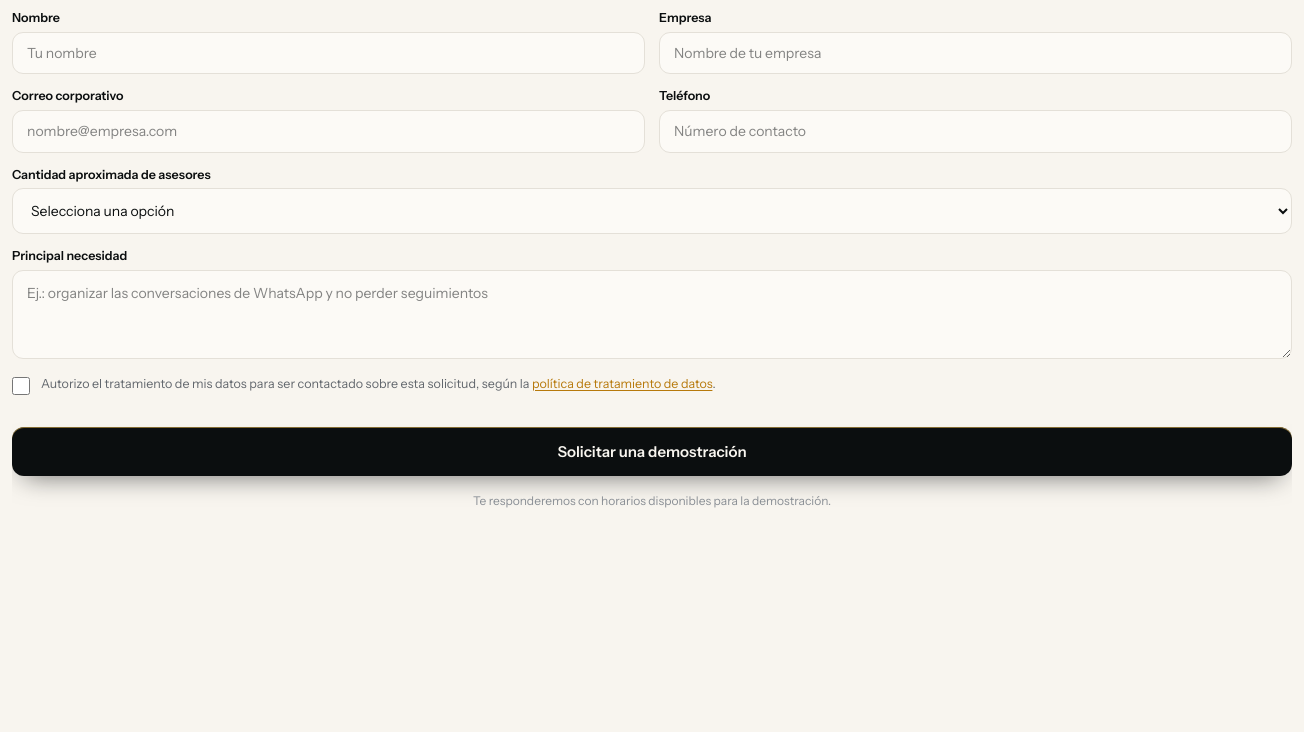
Test: DemoForm › envía la solicitud y muestra la confirmación
The width and height of the screenshot is (1304, 732).
Step 1. Type "María Gómez" into the field labelled "Nombre" → (328, 53), box [12,32,645,74]
Step 2. Type "Distribuciones del Valle" into the field labelled "Empresa" → (976, 53), box [659,32,1292,74]
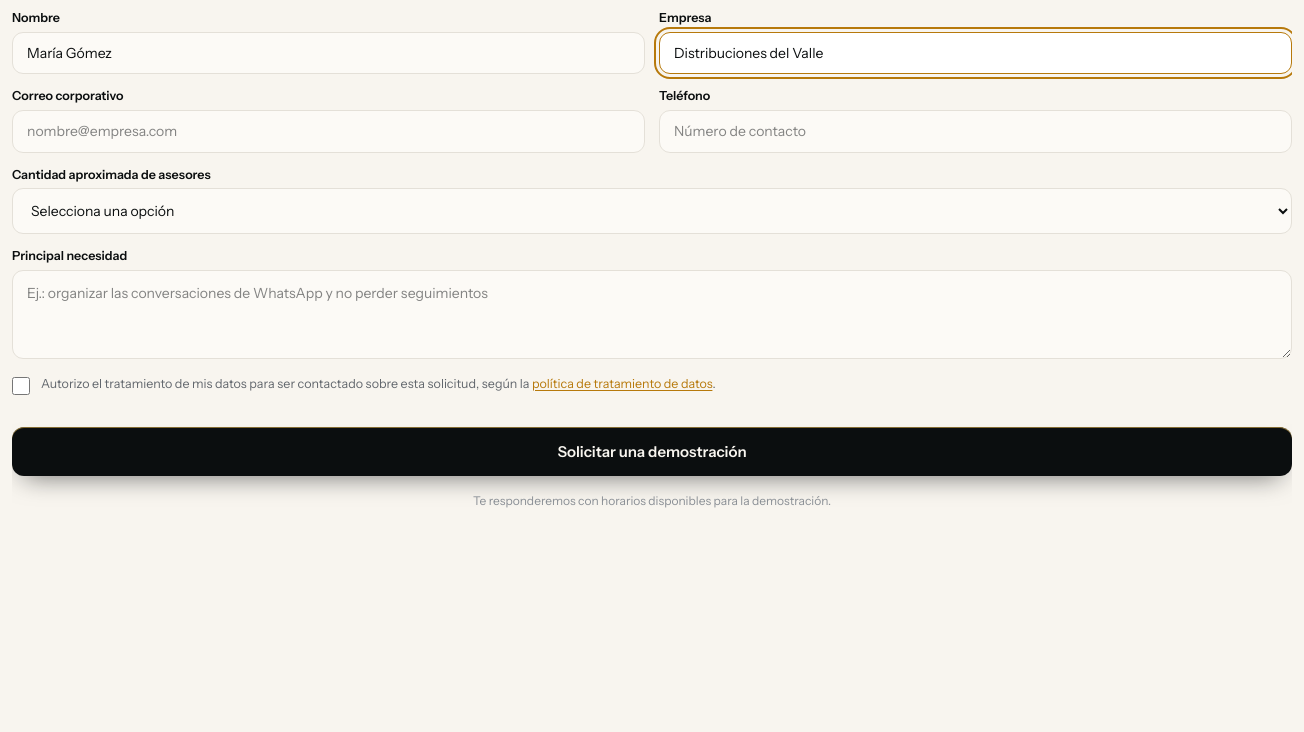
Step 3. Type "maria@empresa.com" into the field labelled "Correo corporativo" → (328, 131), box [12,110,645,153]
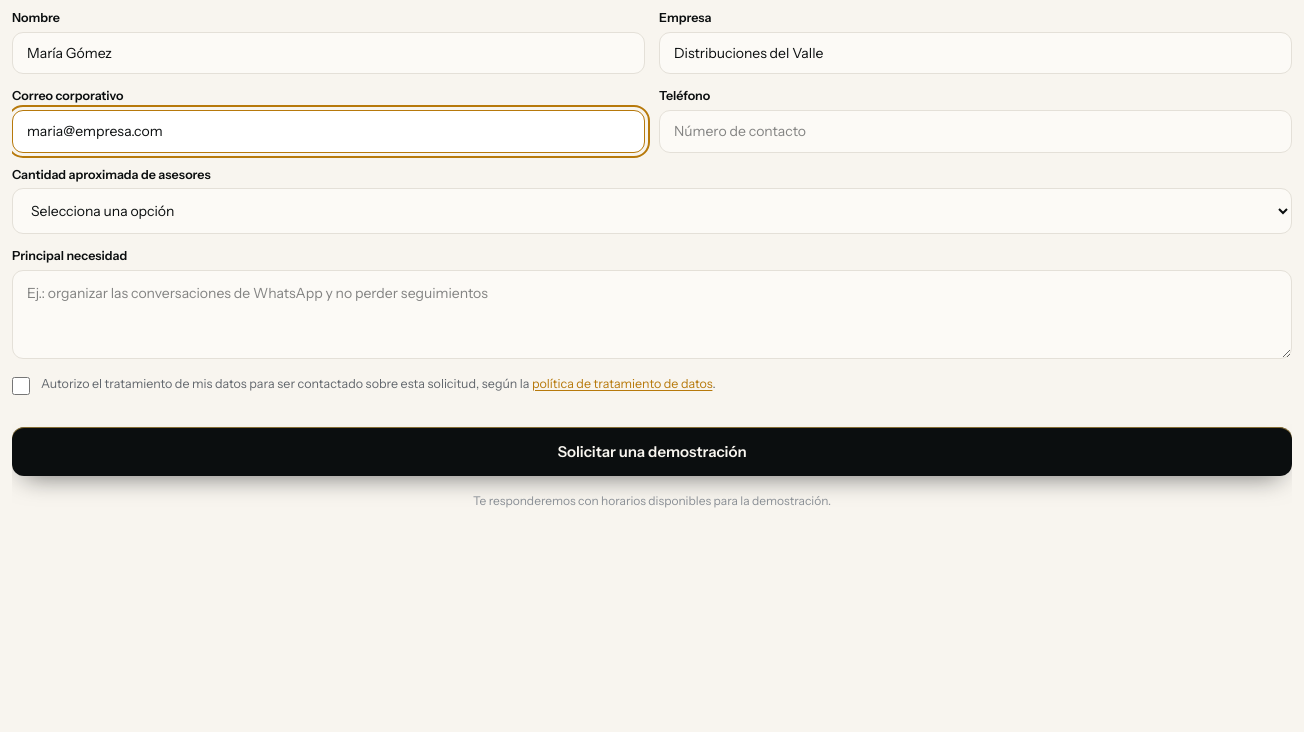
Step 4. Type "3001234567" into the field labelled "Teléfono" → (976, 131), box [659,110,1292,153]
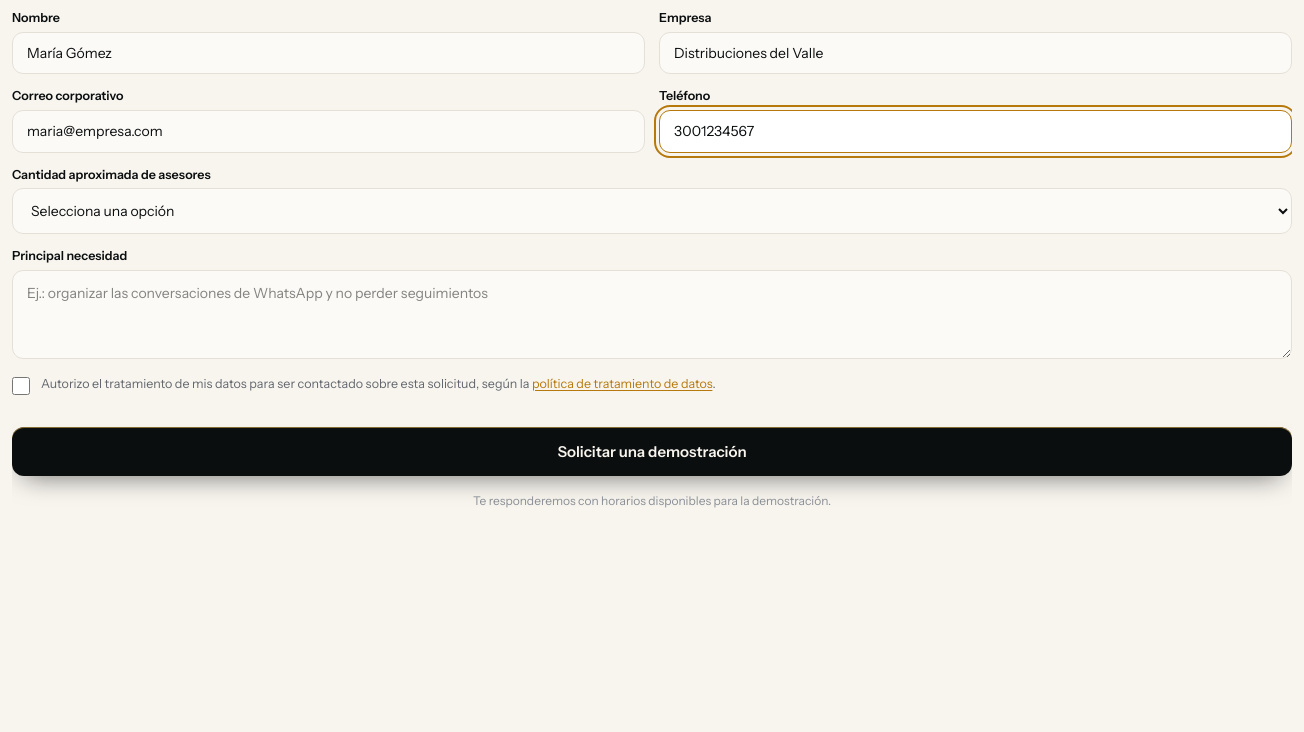
Step 5. Select "4 a 10" in the dropdown labelled "Cantidad aproximada de asesores" → (652, 211), box [12,188,1292,234]
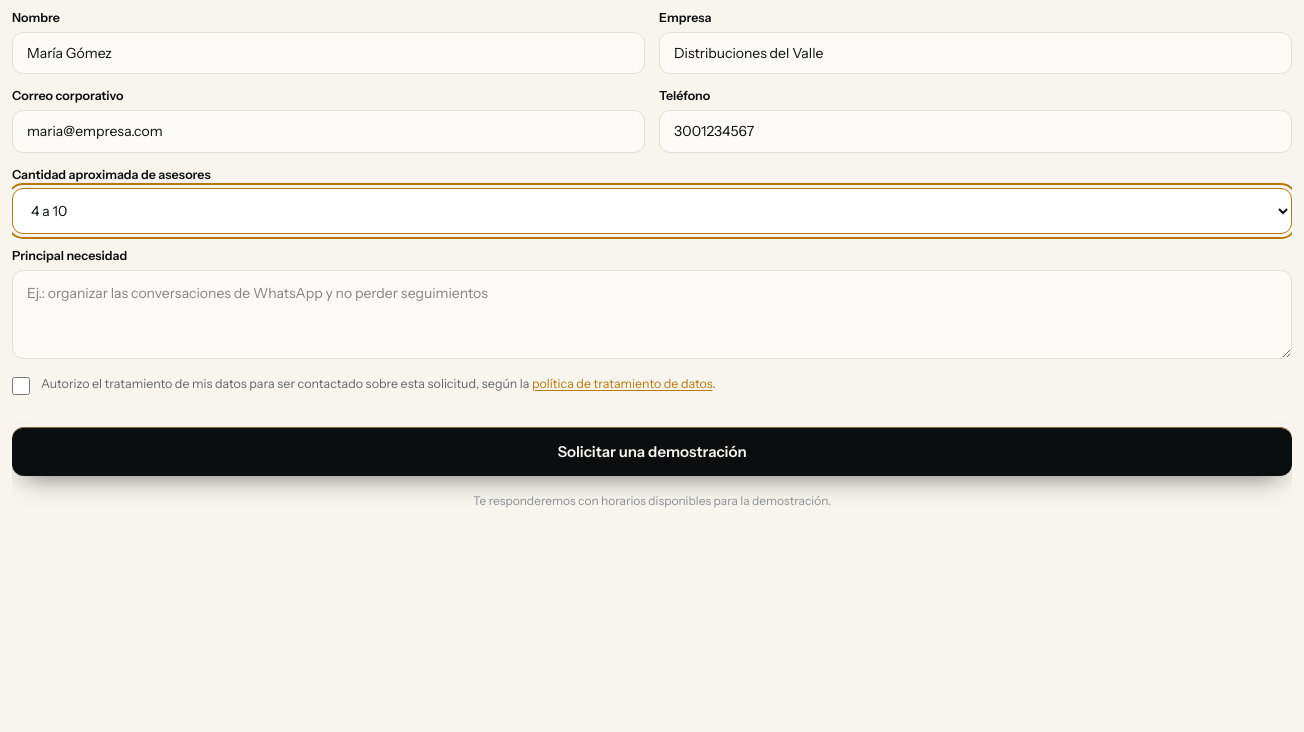
Step 6. Click the checkbox → (21, 386), box [12,377,30,395]
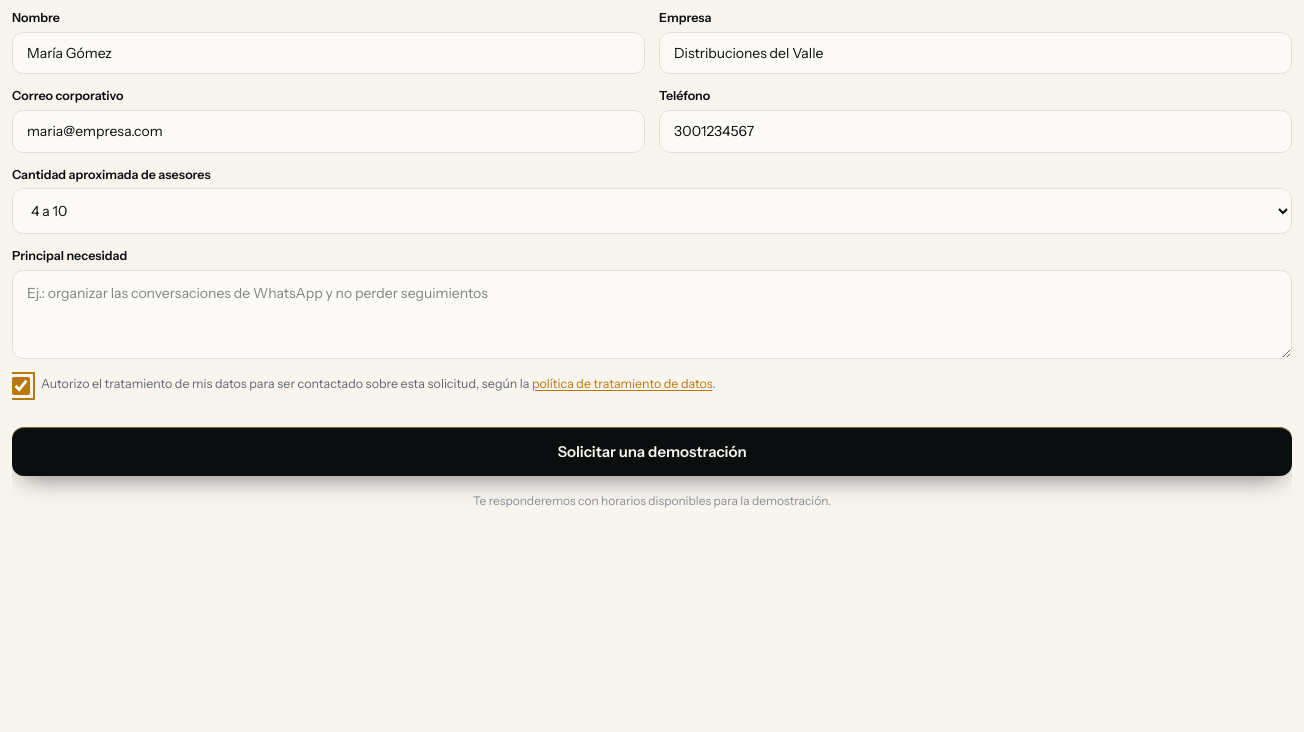
Step 7. Click the button "Solicitar una demostración" → (652, 451), box [12,427,1292,476]
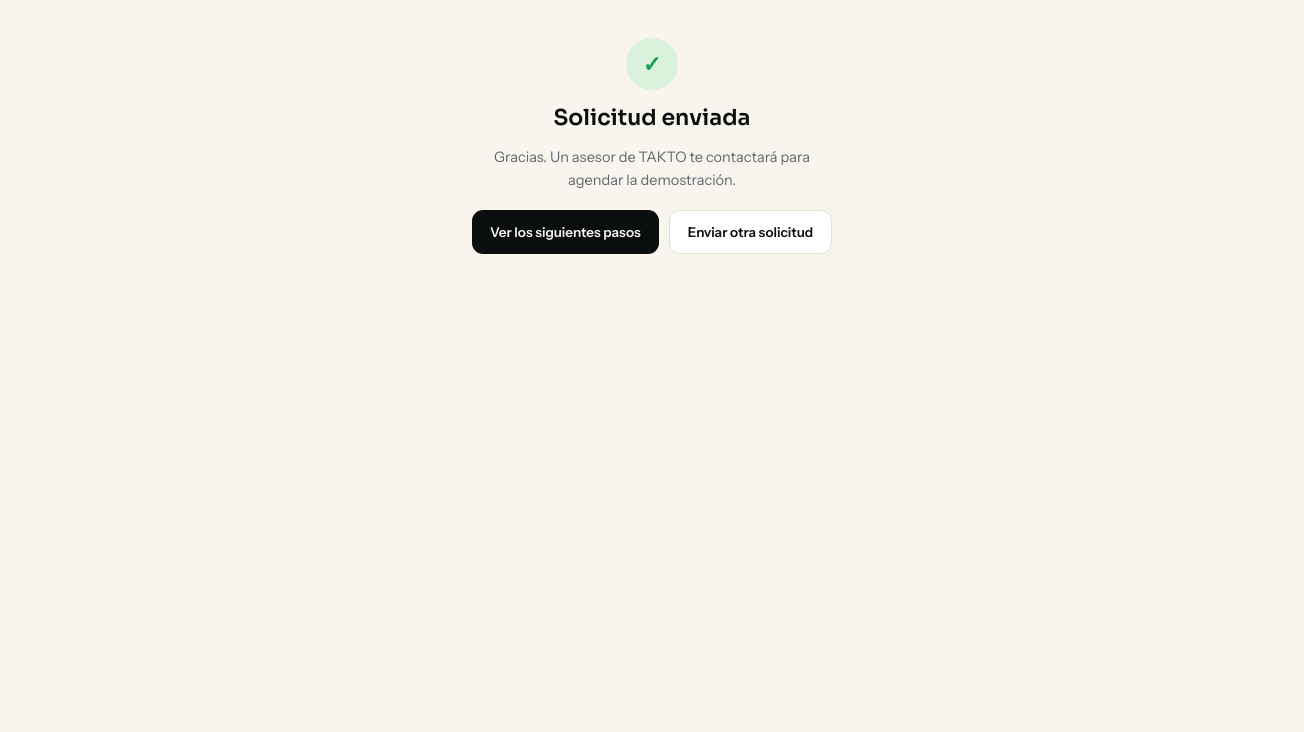
Result: the text "Solicitud enviada" is shown at [554,104,750,132]
